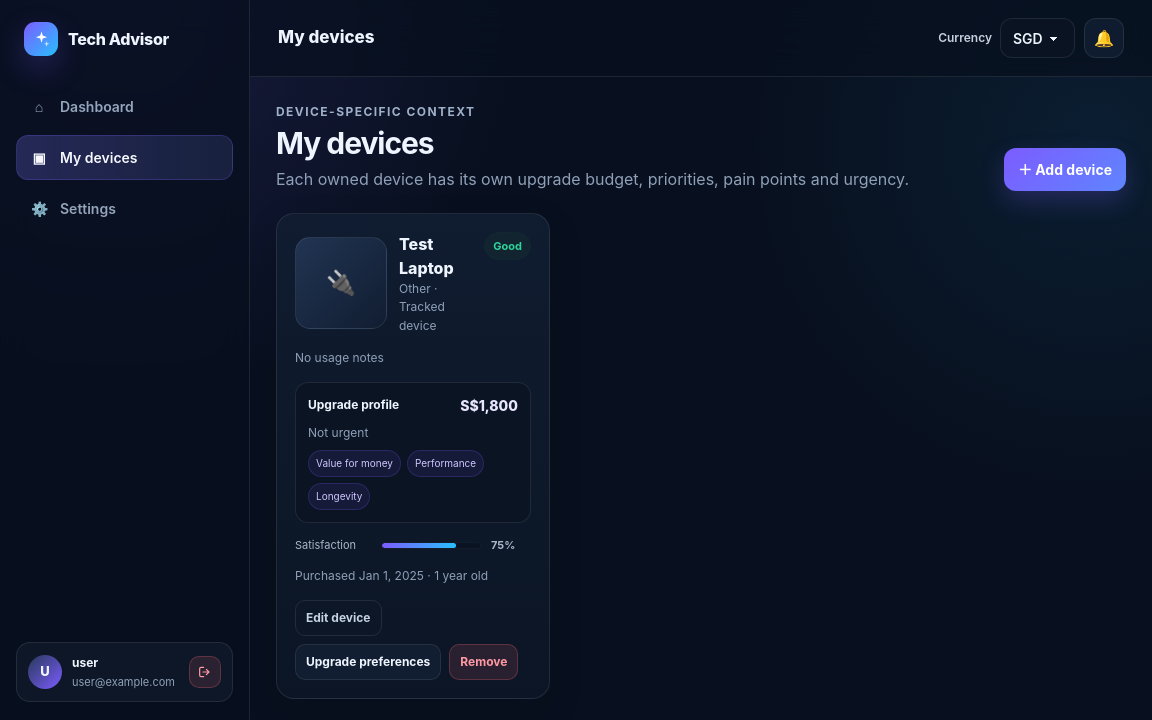
Test: DevicesPageTest › shows the saved budget after a reload and saves a change through the backend
Check: the text "S$1,800" is shown, box x1=460 y1=395 x2=518 y2=416
Click the button "Upgrade preferences". click: (368, 662)
box: x1=295 y1=644 x2=441 y2=680
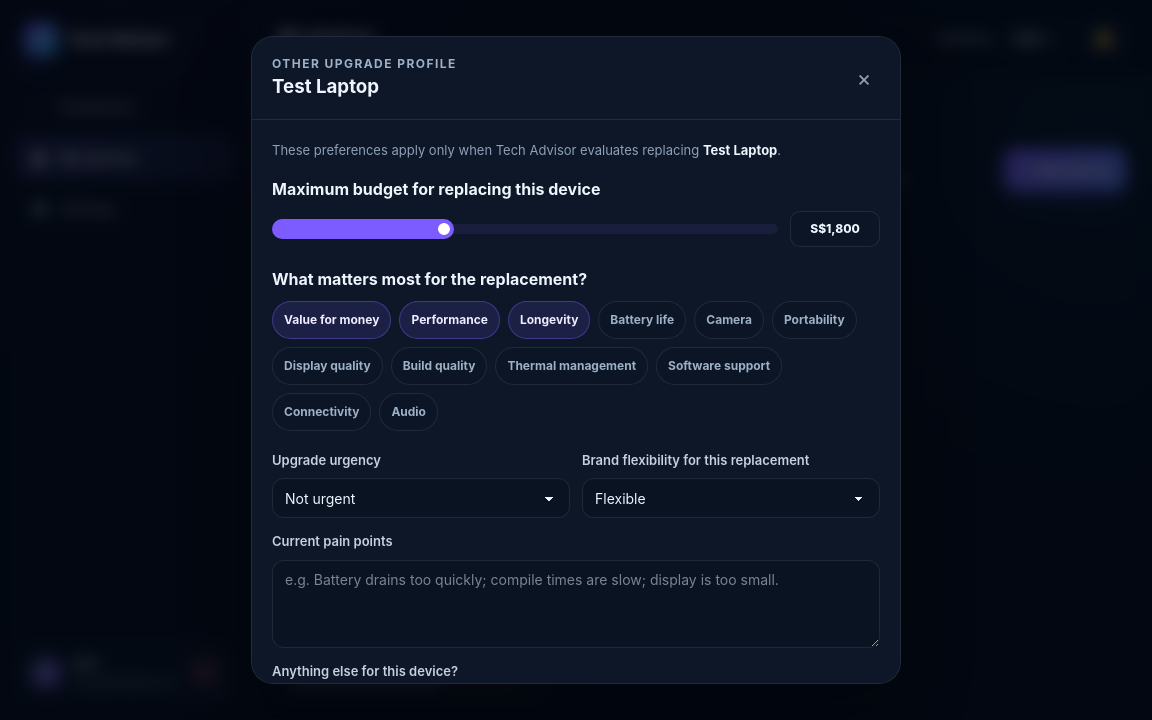
Check: the slider named "Maximum budget" holds "1800"
Set the slider named "Maximum budget" to "3000". click: (566, 229)
box: x1=272 y1=219 x2=778 y2=239
(page scrolled)
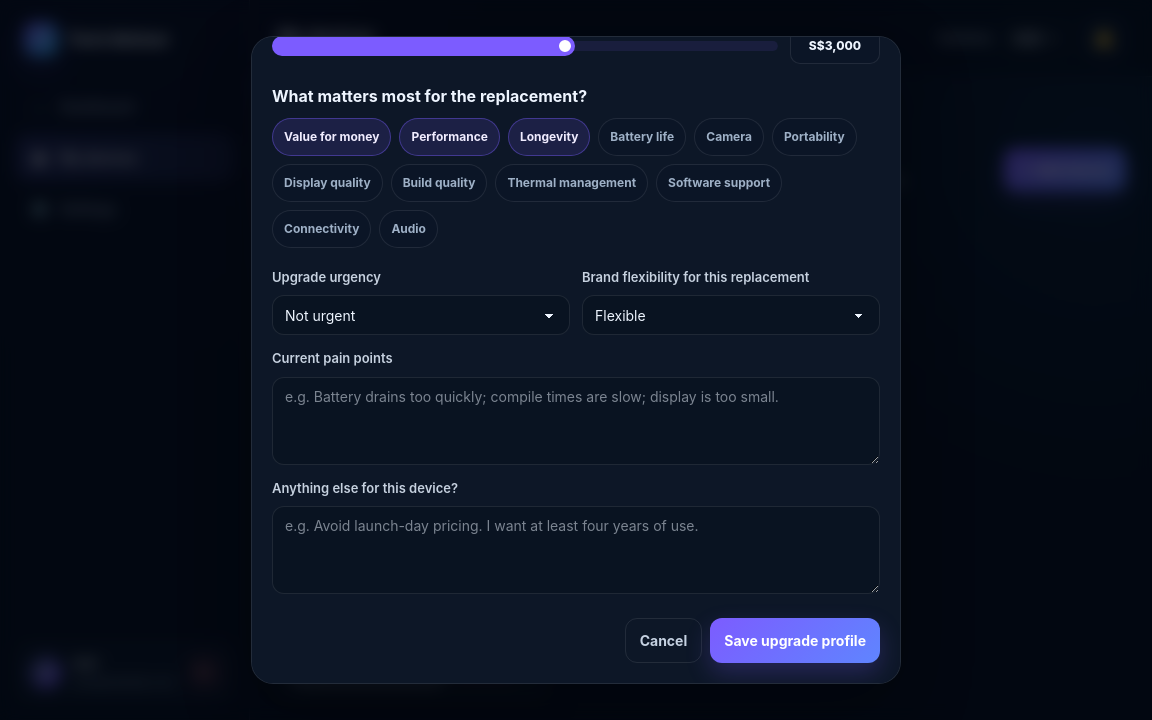
Click the button "Save upgrade profile". click: (795, 641)
box: x1=710 y1=618 x2=880 y2=663
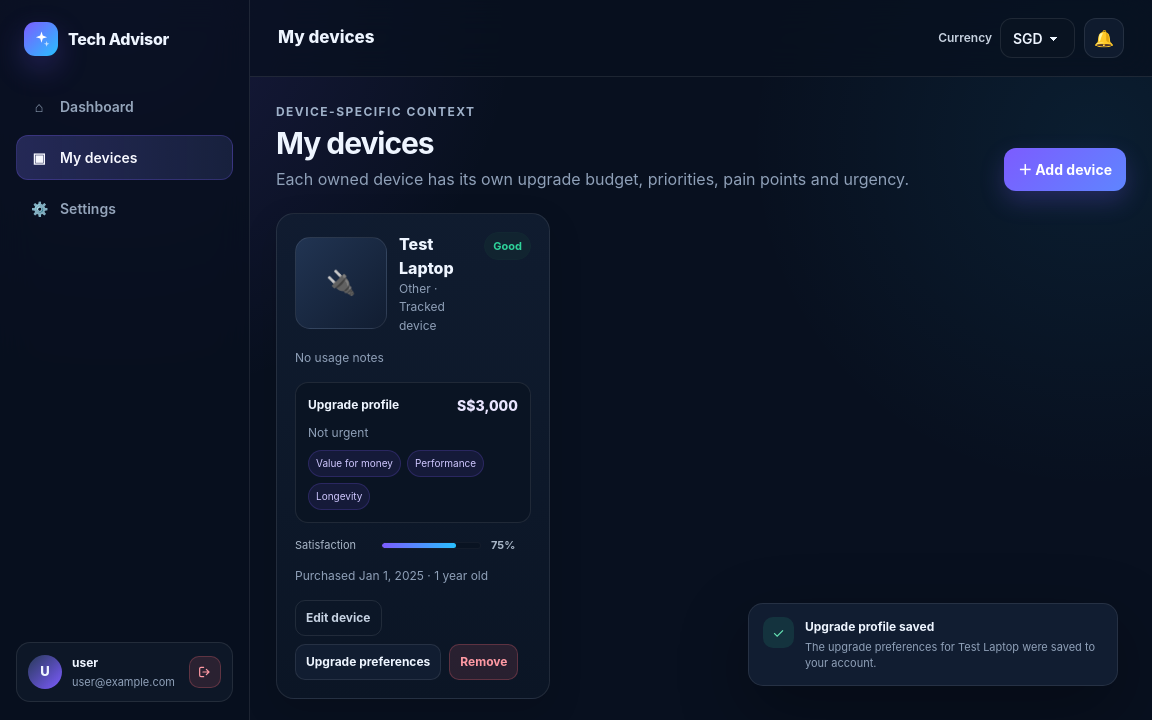
Check: the text "upgrade preferences for Test Laptop were saved to your account" is shown, box x1=805 y1=640 x2=1095 y2=670
Check: the text "S$3,000" is shown, box x1=457 y1=395 x2=518 y2=416
Check: the dialog is gone
